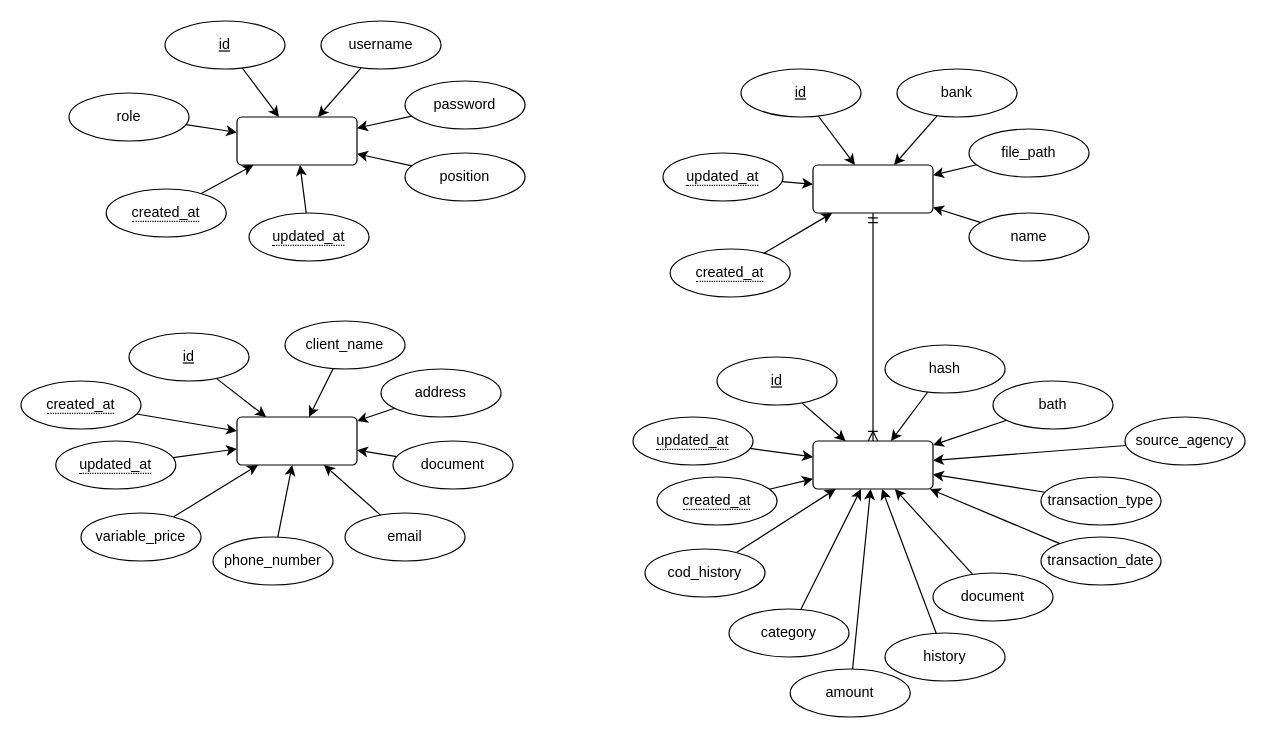
The diagram is 1266 pixels wide and 738 high, and some of its shapes have lost their labels. The box of each missing label's shape, as (x1, y1, x2, y2) in pixels:
client: (236, 416, 357, 465)
statement: (812, 164, 933, 213)
transaction: (812, 440, 933, 489)
user: (236, 116, 357, 165)
